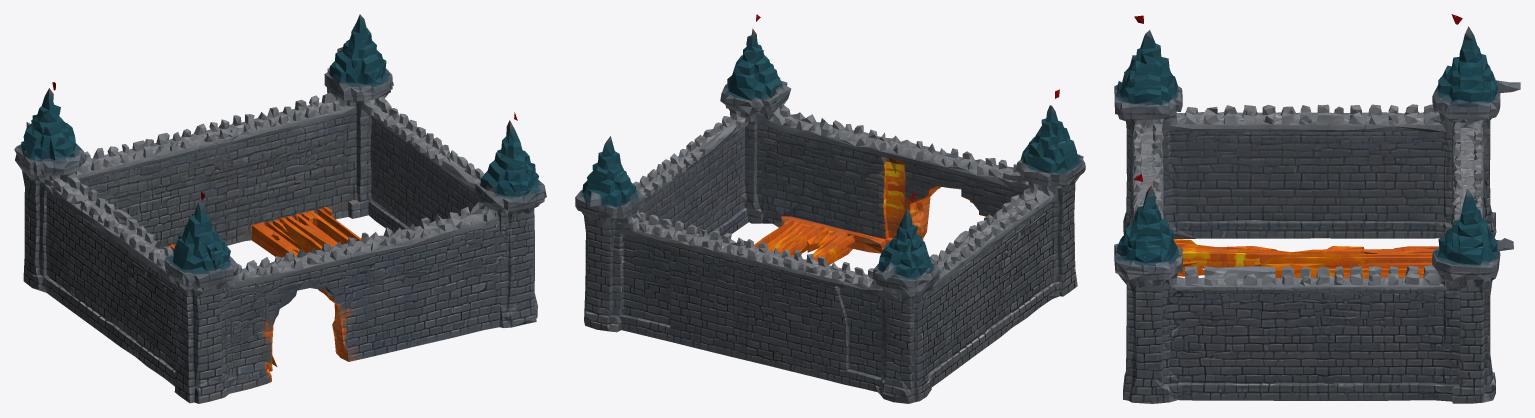
The model's file is castle_terminal.glb.
The picture shows the model from 3 angles, left to right: view 1: azimuth 30°, elevation 25°; view 2: azimuth 150°, elevation 25°; view 3: azimuth 270°, elevation 25°; orthographic projection. The views are drawn at different scales.
Parts seen in each view (by area): view 1: Mesh; view 2: Mesh; view 3: Mesh.
Boxes of the visible parts, left/top/right/bottom form: Mesh: left=14, top=14, right=546, bottom=403; Mesh: left=575, top=14, right=1085, bottom=403; Mesh: left=1114, top=14, right=1520, bottom=403.
Bounding box in the file's own units: 1.9 × 1.03 × 1.72.
1 material, 1 textured.
